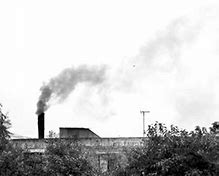smoke: (35, 63, 103, 114)
